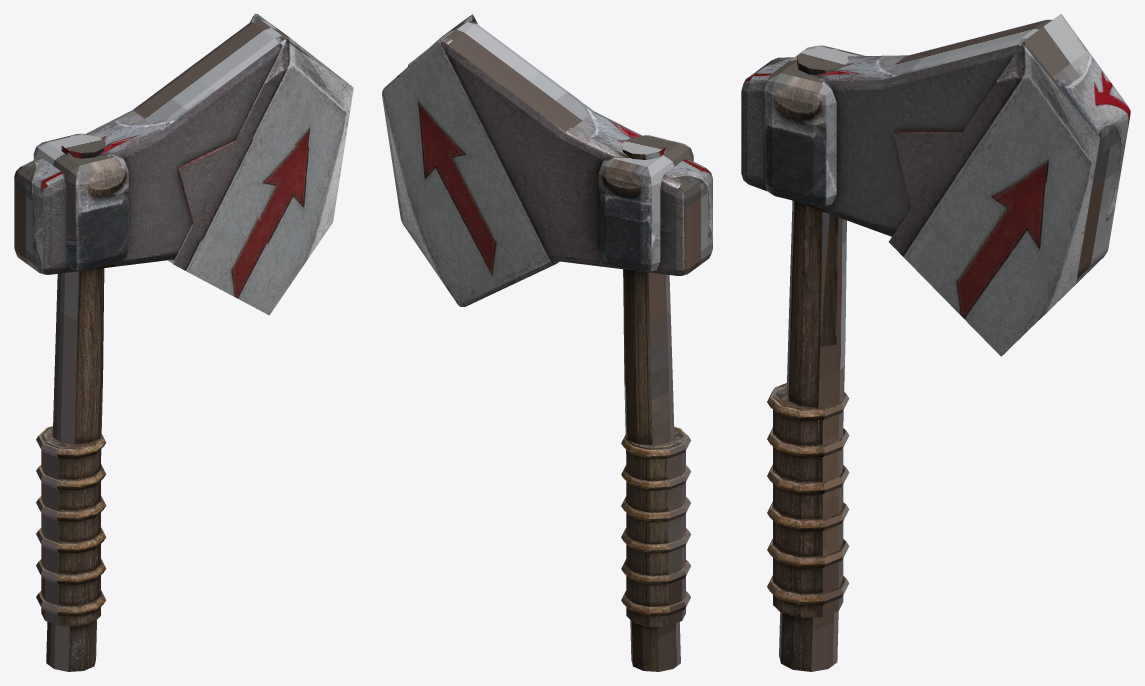
File: evil_axe_offhand.glb
3 renders of one model, left to right at view 1: azimuth 30°, elevation 25°; view 2: azimuth 150°, elevation 25°; view 3: azimuth 330°, elevation 25°, orthographic. The views are drawn at different scales.
Parts seen in each view (by area): view 1: Forged crescent axe blade.001, Sharpened axe cutting edge.001, Axe ash handle.001, Crimson axe blade motif, Leather axe grip.001, Iron axe socket.001, Grip wrapping.011, Grip wrapping.009, Grip wrapping.006, Grip wrapping.007, Grip wrapping.008, Grip wrapping.010; view 2: Forged crescent axe blade.001, Sharpened axe cutting edge.001, Axe ash handle.001, Leather axe grip.001, Iron axe socket.001, Grip wrapping.011, Grip wrapping.007, Grip wrapping.008, Grip wrapping.010, Grip wrapping.009, Grip wrapping.006; view 3: Sharpened axe cutting edge.001, Forged crescent axe blade.001, Axe ash handle.001, Crimson axe blade motif, Leather axe grip.001, Iron axe socket.001, Grip wrapping.007, Grip wrapping.006, Grip wrapping.008, Grip wrapping.009, Grip wrapping.011, Grip wrapping.010.
Boxes of the visible parts, x1,y1,x2,y2 form: Forged crescent axe blade.001: (14,19,287,274); Sharpened axe cutting edge.001: (168,14,353,315); Axe ash handle.001: (46,134,105,671); Crimson axe blade motif: (179,137,324,261); Leather axe grip.001: (41,426,100,626); Iron axe socket.001: (33,133,128,270); Grip wrapping.011: (36,427,106,458); Grip wrapping.009: (36,496,106,521); Grip wrapping.006: (36,590,105,616); Grip wrapping.007: (36,559,106,584); Grip wrapping.008: (36,527,105,553); Grip wrapping.010: (36,464,105,490); Forged crescent axe blade.001: (440,21,712,275); Sharpened axe cutting edge.001: (382,14,559,306); Axe ash handle.001: (621,136,680,671); Leather axe grip.001: (626,427,685,626); Iron axe socket.001: (598,135,693,271); Grip wrapping.011: (621,428,690,459); Grip wrapping.007: (621,559,690,584); Grip wrapping.008: (621,528,690,553); Grip wrapping.010: (621,465,690,490); Grip wrapping.009: (621,496,690,521); Grip wrapping.006: (621,591,690,616); Sharpened axe cutting edge.001: (889,14,1130,356); Forged crescent axe blade.001: (741,19,1112,264); Axe ash handle.001: (779,47,848,671); Crimson axe blade motif: (893,133,1063,295); Leather axe grip.001: (773,383,843,617); Iron axe socket.001: (764,45,864,206); Grip wrapping.007: (767,538,849,568); Grip wrapping.006: (767,575,849,605); Grip wrapping.008: (767,502,849,531); Grip wrapping.009: (767,465,849,494); Grip wrapping.011: (767,383,849,420); Grip wrapping.010: (767,428,849,457).
Size of the model in its own units: 0.6196 by 1.12 by 0.16.
4 materials, 4 textured.
